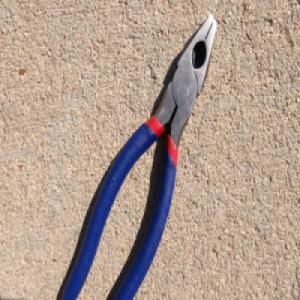Pliers: (59, 12, 217, 300)
